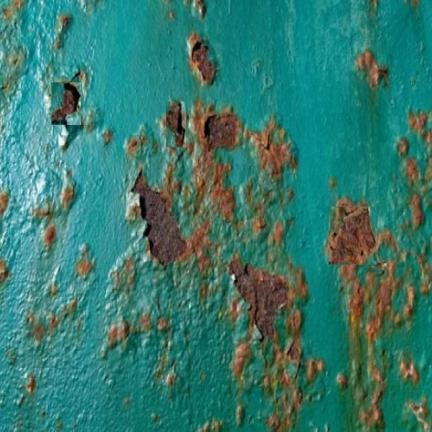karat: (131, 171, 186, 266), (229, 256, 288, 338), (327, 197, 378, 264), (249, 120, 296, 177), (188, 32, 215, 84), (202, 113, 240, 149), (211, 164, 235, 219), (51, 83, 80, 122), (166, 101, 184, 146)
